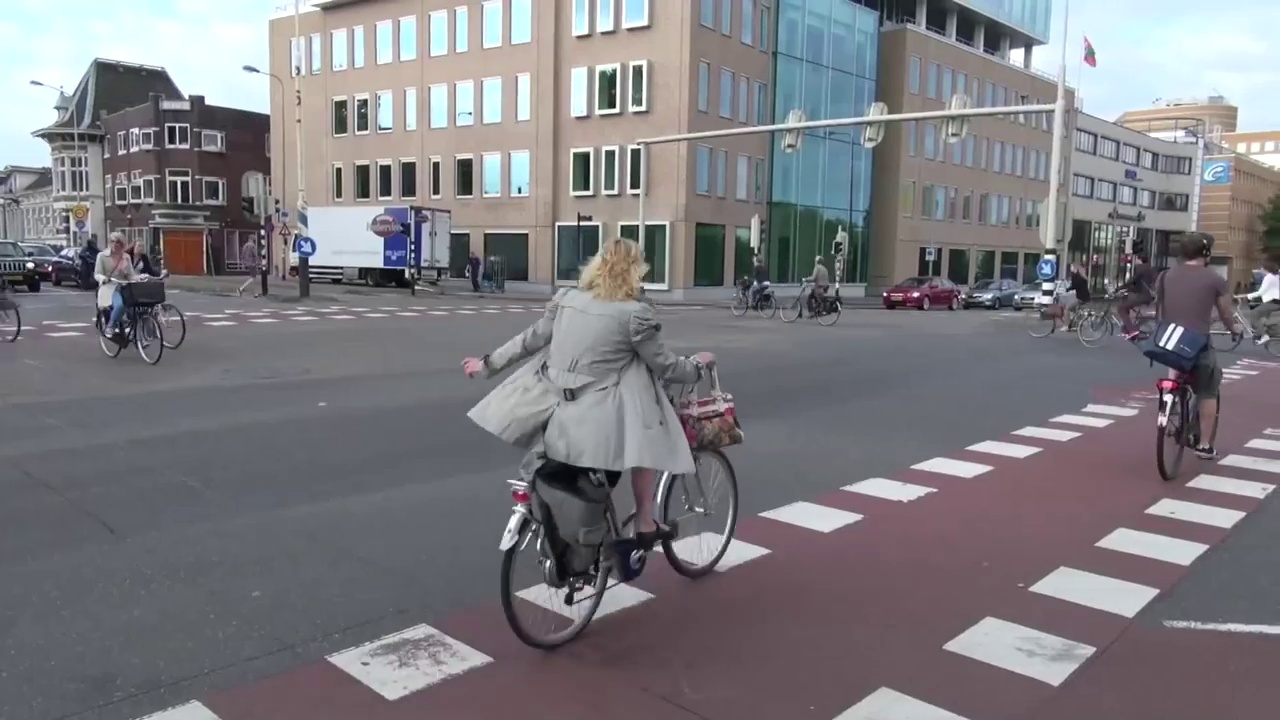cyclist_back: (1132, 225, 1233, 489)
cyclist_front: (80, 232, 167, 368)
cyclist_side: (464, 236, 775, 633), (1082, 246, 1151, 346), (1025, 258, 1097, 336), (784, 256, 847, 337), (729, 247, 779, 314)
